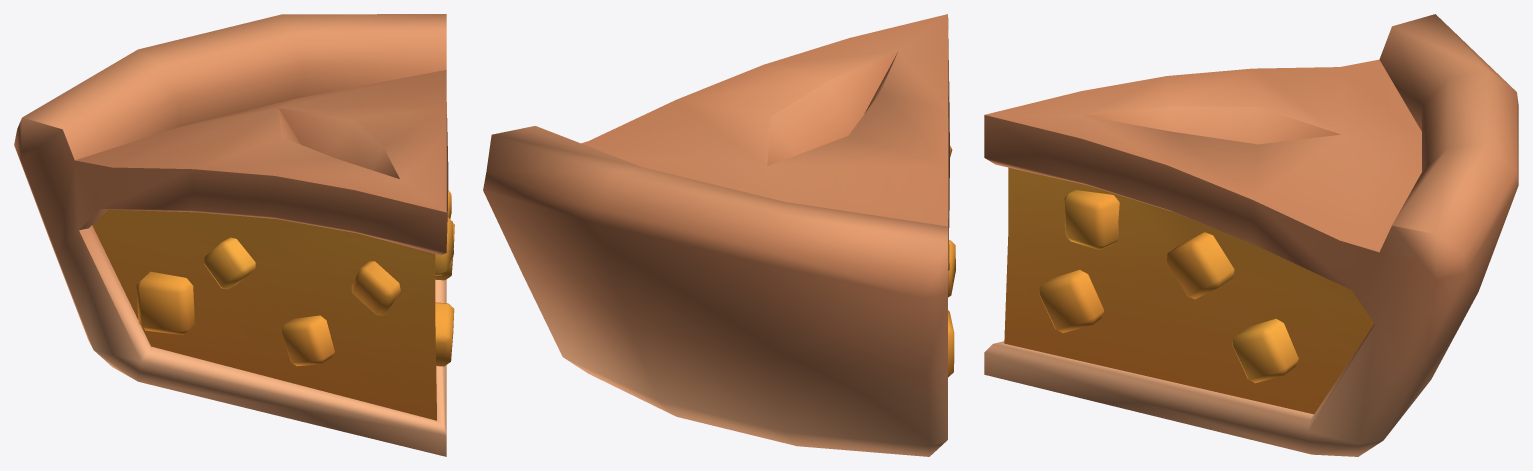
File: pie_apple_slice.obj
The picture shows the model from 3 angles, left to right: view 1: azimuth 30°, elevation 25°; view 2: azimuth 150°, elevation 25°; view 3: azimuth 270°, elevation 25°; orthographic projection. The views are drawn at different scales.
Parts seen in each view (by area): view 1: pie_apple_slice; view 2: pie_apple_slice; view 3: pie_apple_slice.
Boxes of the visible parts, bbox=[...] form: pie_apple_slice: bbox=[14, 14, 454, 456]; pie_apple_slice: bbox=[483, 14, 955, 456]; pie_apple_slice: bbox=[984, 14, 1518, 456].
Size of the model in its own units: 0.5577 by 0.3153 by 0.5707.
Materials: 1 (1 with a texture image).
